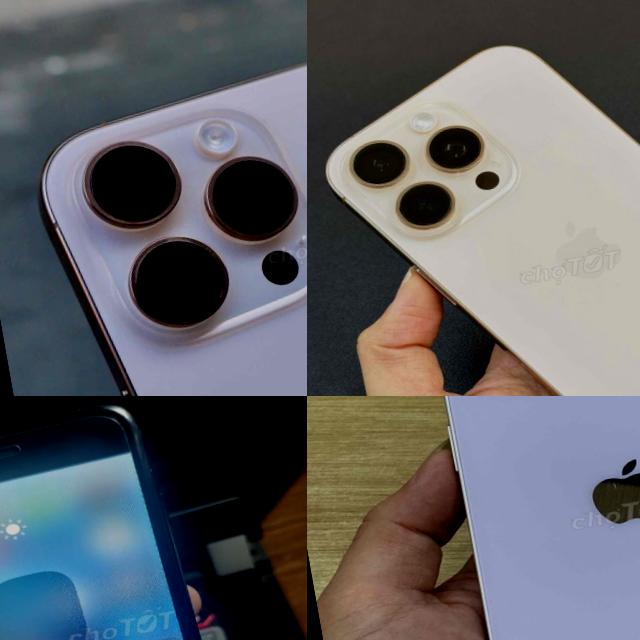gen_14: (417, 396, 640, 640)
gen_16: (325, 46, 640, 396), (39, 63, 307, 396)
gen_7_8: (0, 396, 262, 640)
